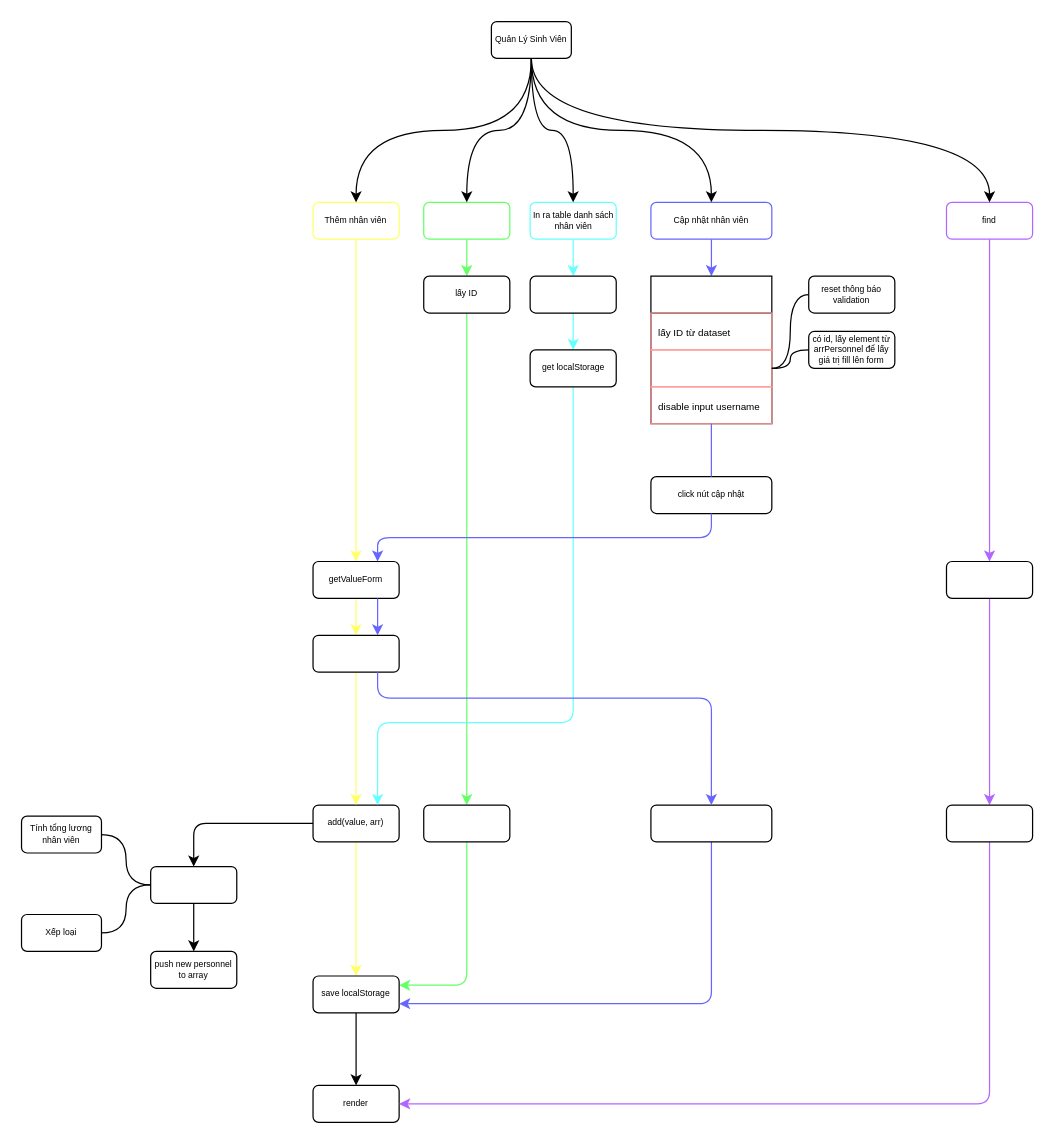
This 1054x1144 diagram has some shape labels left out. Each missing label, with the box of its shape:
Click nút sửa: (650, 275, 772, 424)
dùng ham filler tìm để lọc ra xếp loại: (945, 804, 1033, 842)
edit(id, arrPersonnel): (650, 349, 772, 387)
init(): (529, 275, 616, 313)
lấy giá trị từ ô input: (945, 560, 1033, 598)
new Personel Tạo đối tượng nhân viên lấy từ Form: (149, 865, 237, 903)
remove(id, arr): (423, 804, 510, 842)
update: (650, 804, 772, 842)
Validation: (312, 634, 399, 672)
Xóa nhân viên: (423, 201, 510, 239)
